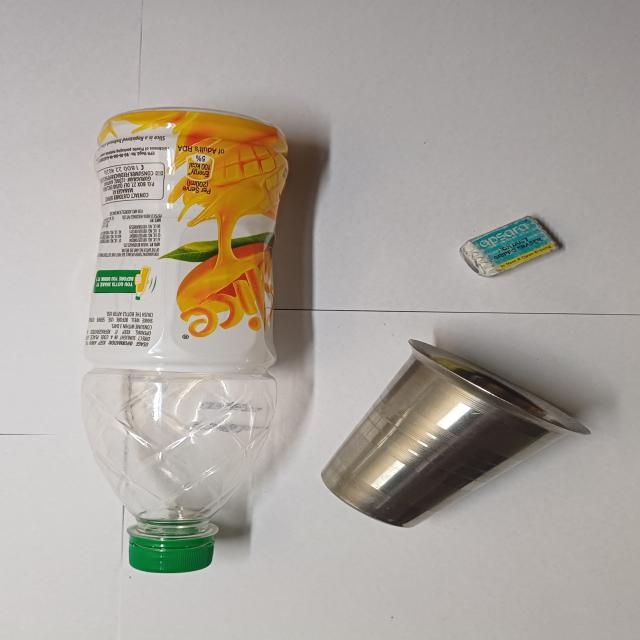Eraser-NonBio: (456, 209, 567, 283)
Plastic-NonBio: (70, 103, 292, 576)
Steel-NonBio: (318, 335, 594, 530)
